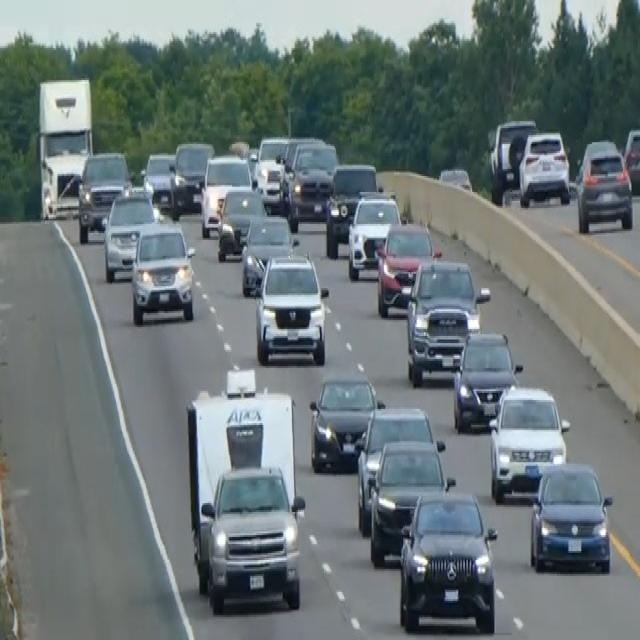car: (368, 436, 455, 566), (355, 404, 442, 534), (404, 256, 490, 386), (488, 382, 570, 502), (528, 459, 613, 574), (253, 249, 328, 364), (308, 370, 384, 471), (451, 327, 522, 432), (130, 218, 196, 324), (374, 218, 440, 316), (101, 185, 160, 281), (575, 137, 633, 233), (324, 160, 379, 258), (76, 149, 132, 242), (347, 189, 402, 279), (240, 212, 297, 295), (199, 151, 252, 237), (284, 139, 337, 222), (488, 116, 536, 202), (518, 128, 570, 206), (216, 183, 266, 261), (172, 138, 214, 212), (141, 149, 181, 219), (253, 133, 289, 210), (622, 124, 639, 194), (438, 164, 472, 192)
jeep: (396, 485, 499, 633)
lorry: (35, 74, 95, 220)
truck: (184, 368, 306, 613)
